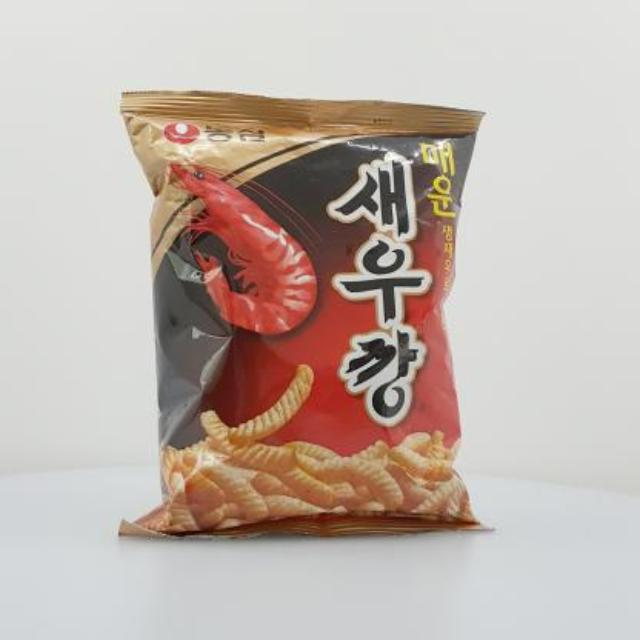snack_bag: (110, 80, 506, 546)
